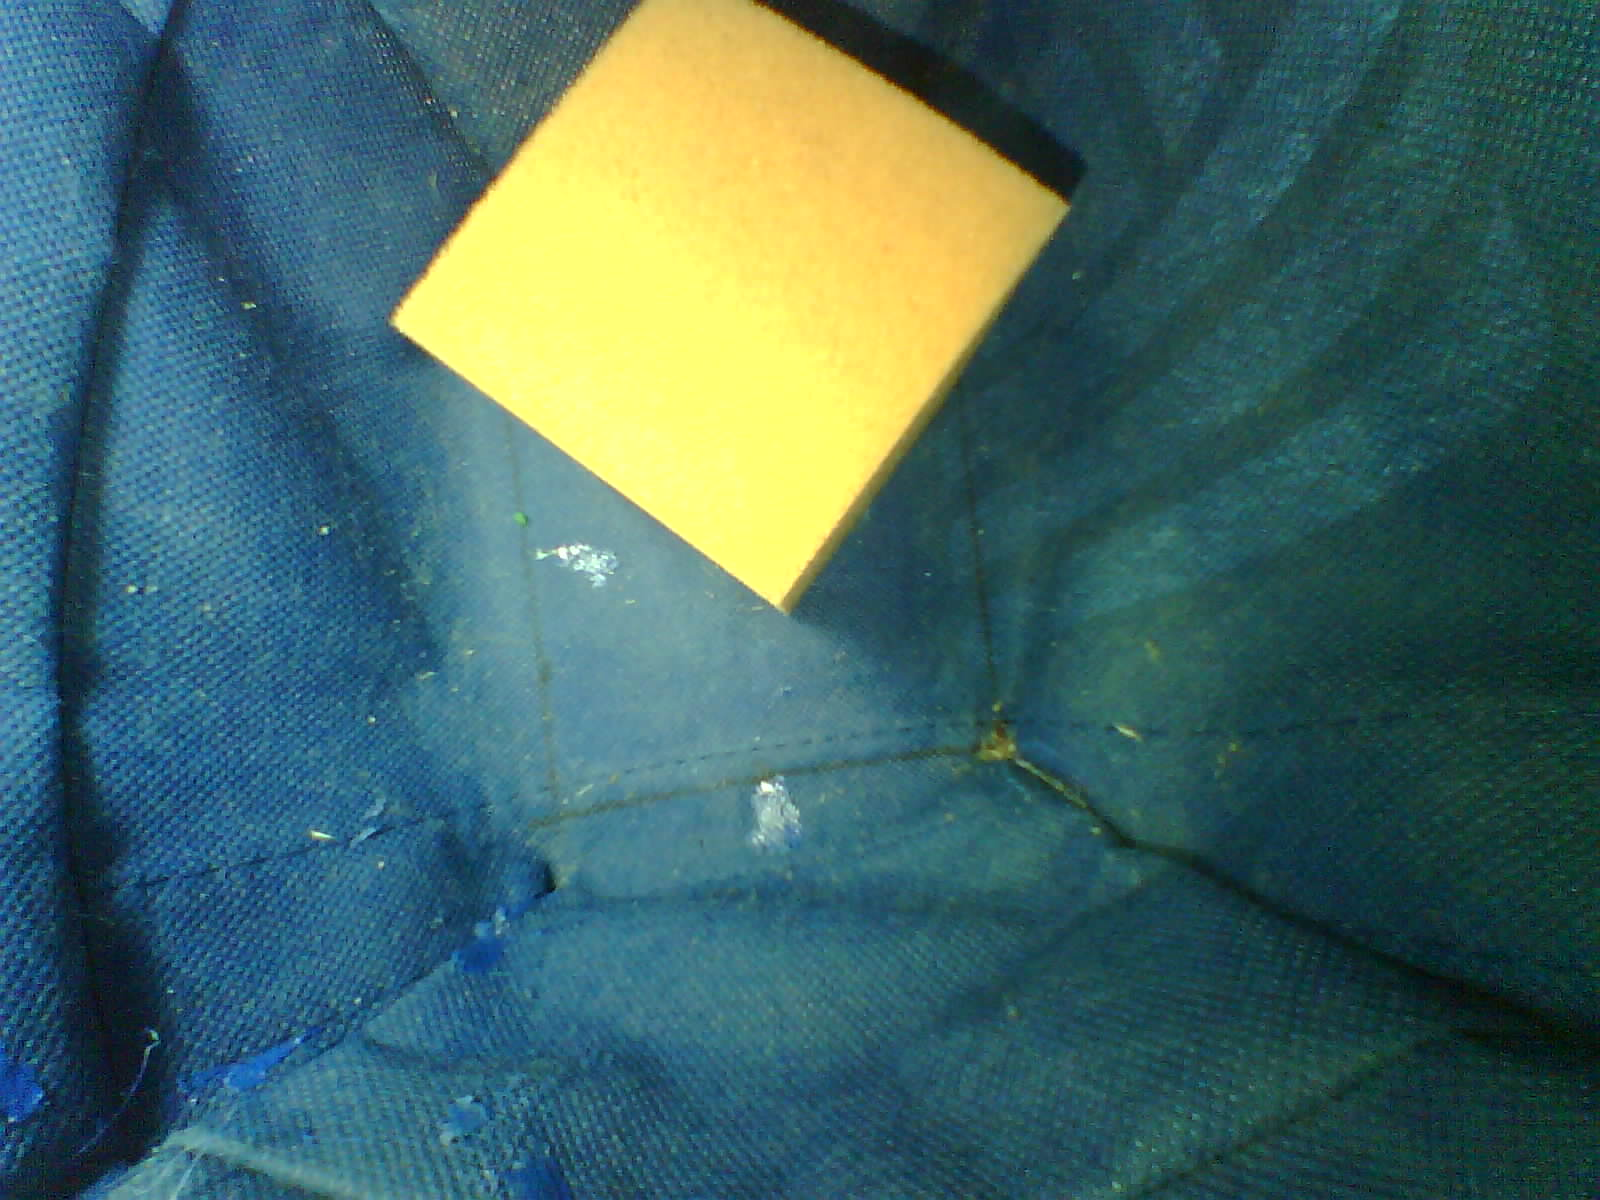cube-soft: (379, 0, 1086, 639)
